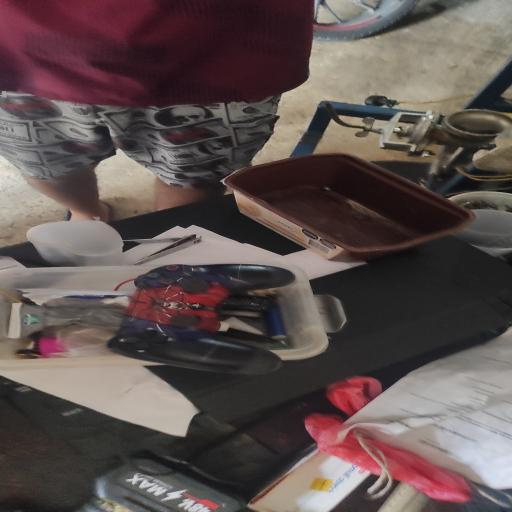ControlPlay4: (107, 264, 295, 374), (125, 278, 230, 333)
